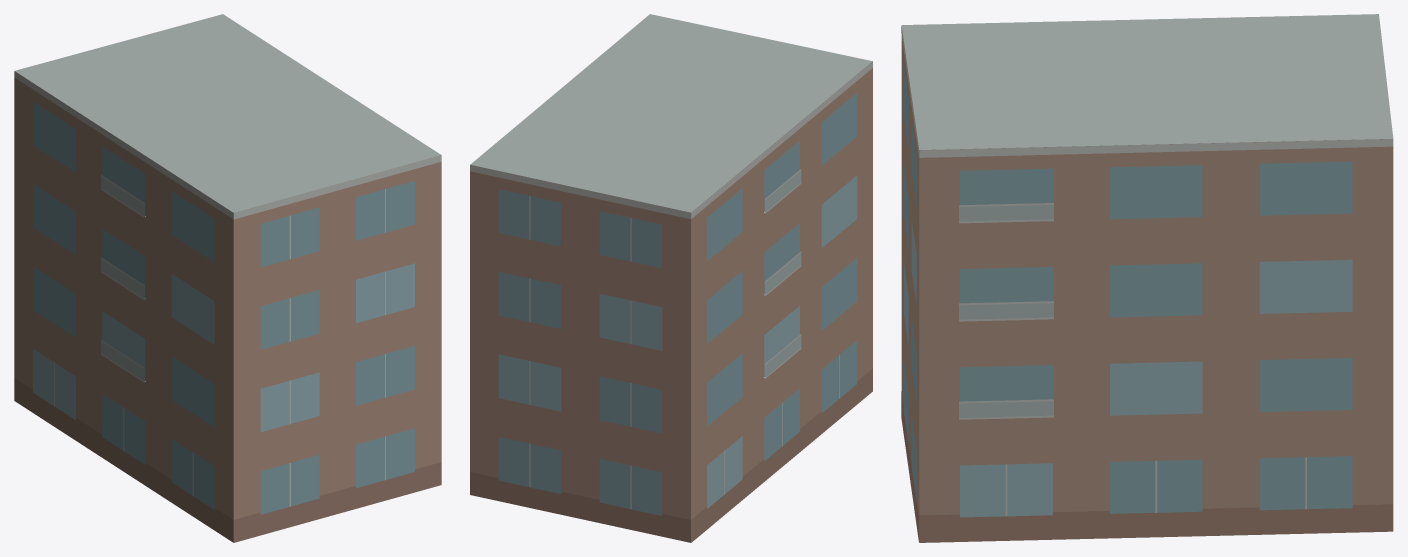
The model's file is survey-upis-32697209.glb.
The picture shows the model from 3 angles, left to right: view 1: azimuth 30°, elevation 25°; view 2: azimuth 150°, elevation 25°; view 3: azimuth 270°, elevation 25°; orthographic projection. The views are drawn at different scales.
Visible parts, largest first — view 1: survey-upis-32697209.tmp; view 2: survey-upis-32697209.tmp; view 3: survey-upis-32697209.tmp.
Part boxes in pixels (<box>): survey-upis-32697209.tmp: <box>14,14,441,542</box>; survey-upis-32697209.tmp: <box>470,14,872,542</box>; survey-upis-32697209.tmp: <box>901,14,1393,542</box>.
Bounding box in the file's own units: 9.07 × 12.2 × 13.86.
